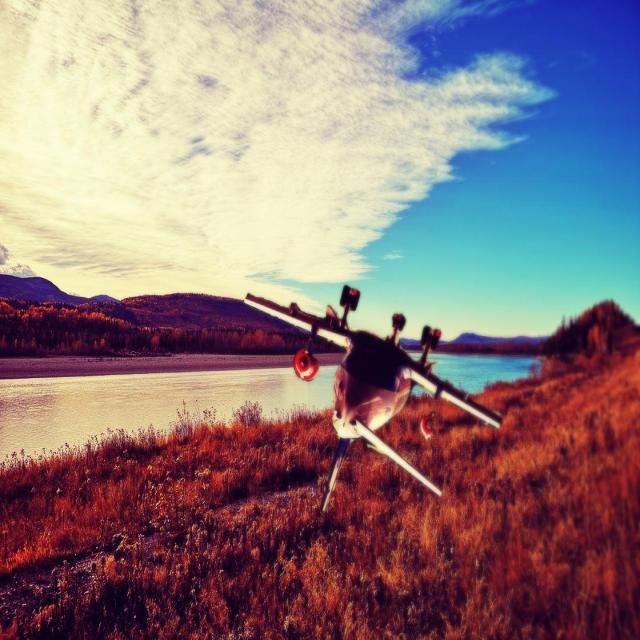airplane: (243, 284, 503, 512)
